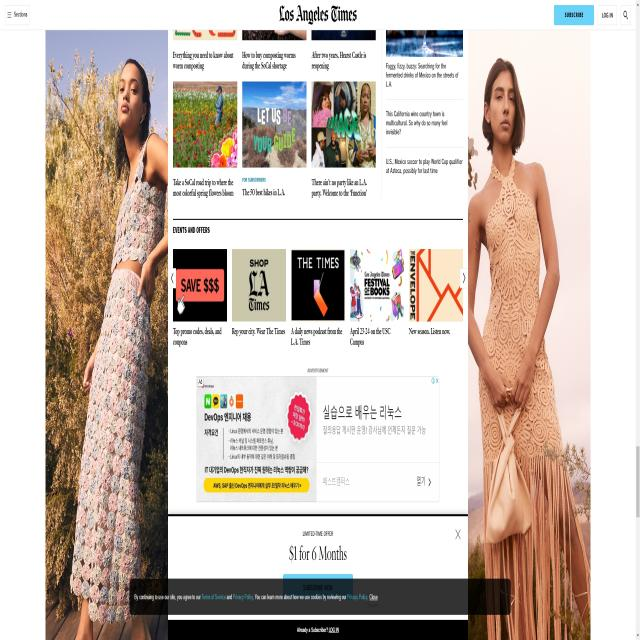menu-bar: (549, 1, 630, 26)
